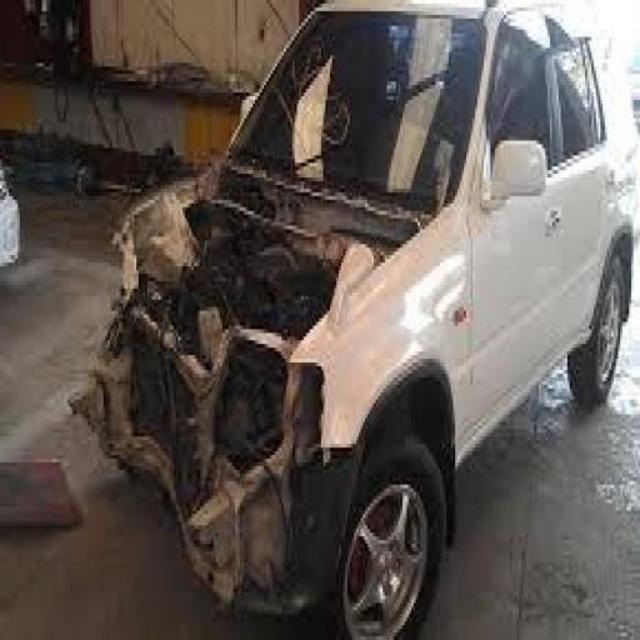no part: (76, 168, 399, 609)
